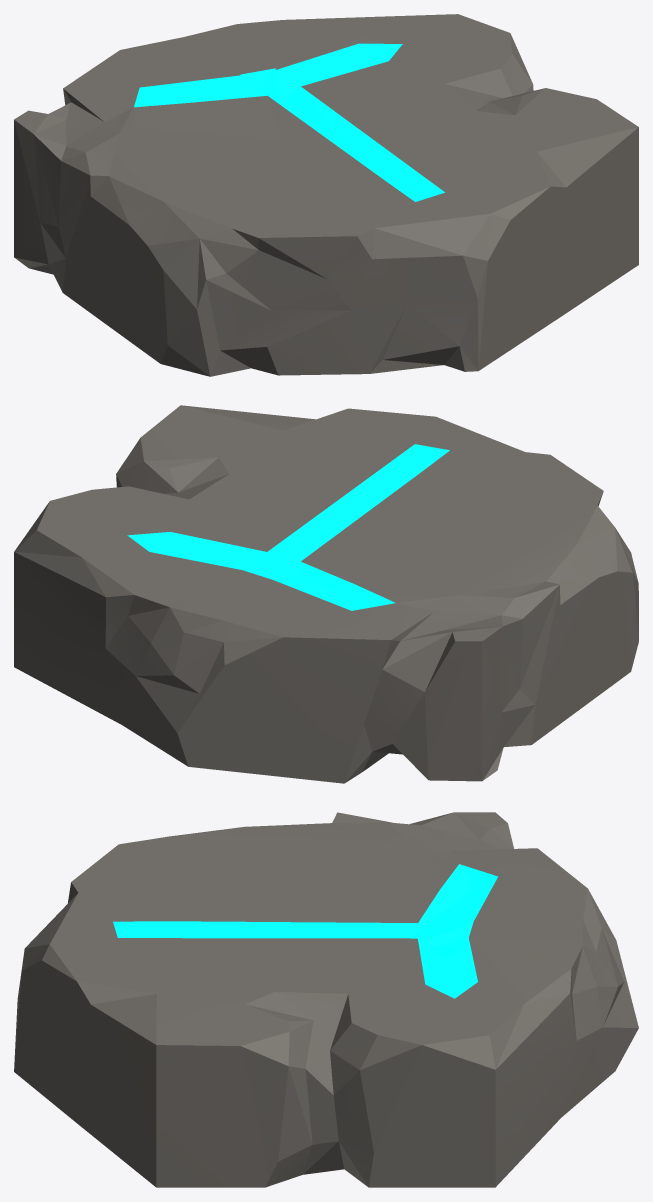
The picture shows the model from 3 angles, top to bottom: view 1: azimuth 30°, elevation 25°; view 2: azimuth 150°, elevation 25°; view 3: azimuth 270°, elevation 25°; orthographic projection. The views are drawn at different scales.
Visible parts, largest first — view 1: Obj3d66-1649282-6-905; view 2: Obj3d66-1649282-6-905; view 3: Obj3d66-1649282-6-905.
Boxes of the visible parts, left/top/right/bottom form: Obj3d66-1649282-6-905: left=14, top=14, right=638, bottom=376; Obj3d66-1649282-6-905: left=14, top=405, right=638, bottom=783; Obj3d66-1649282-6-905: left=14, top=812, right=638, bottom=1187.
Bounding box in the file's own units: 959 × 274 × 1088.
Materials: 1 (1 with a texture image).
